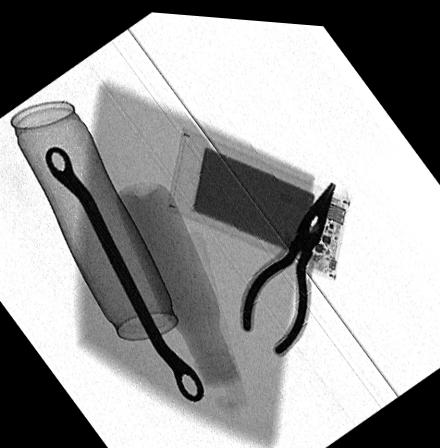Pliers: (241, 173, 337, 354)
Powerbank: (167, 123, 352, 276)
Wrench: (40, 141, 204, 399)
